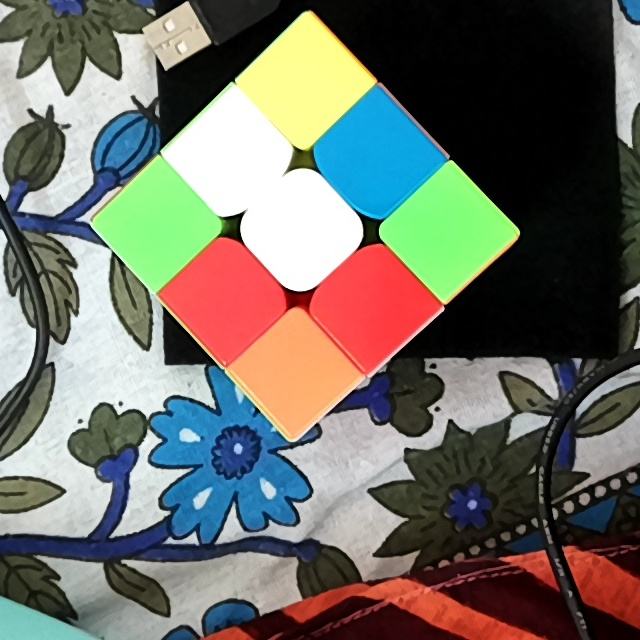tile: (341, 120, 412, 191), (195, 122, 266, 191), (338, 269, 407, 339), (192, 263, 262, 331), (413, 200, 482, 265), (261, 340, 330, 405), (267, 198, 335, 263), (273, 51, 335, 118), (127, 195, 188, 260)
